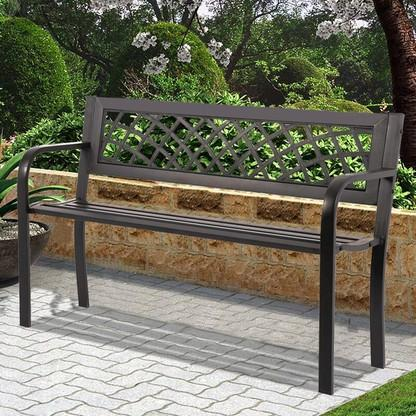obstacle: (14, 89, 402, 360)
